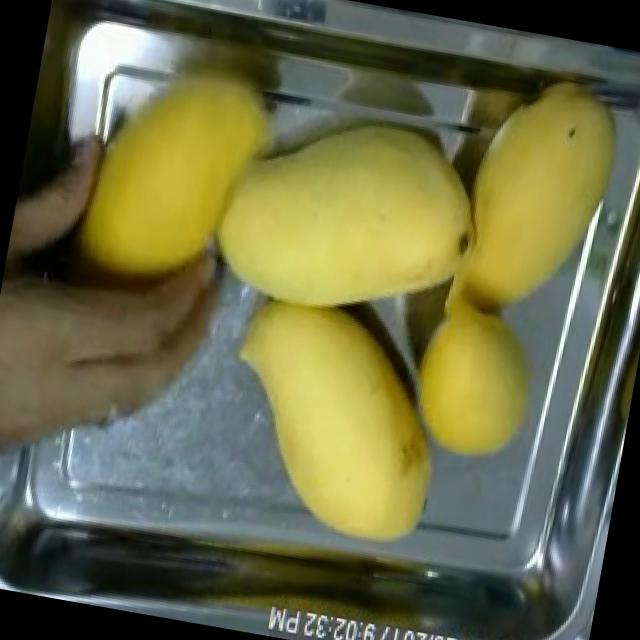fruit: (22, 0, 311, 325), (192, 82, 504, 348), (190, 276, 474, 562), (0, 242, 225, 517), (432, 58, 640, 345), (391, 283, 556, 472)
